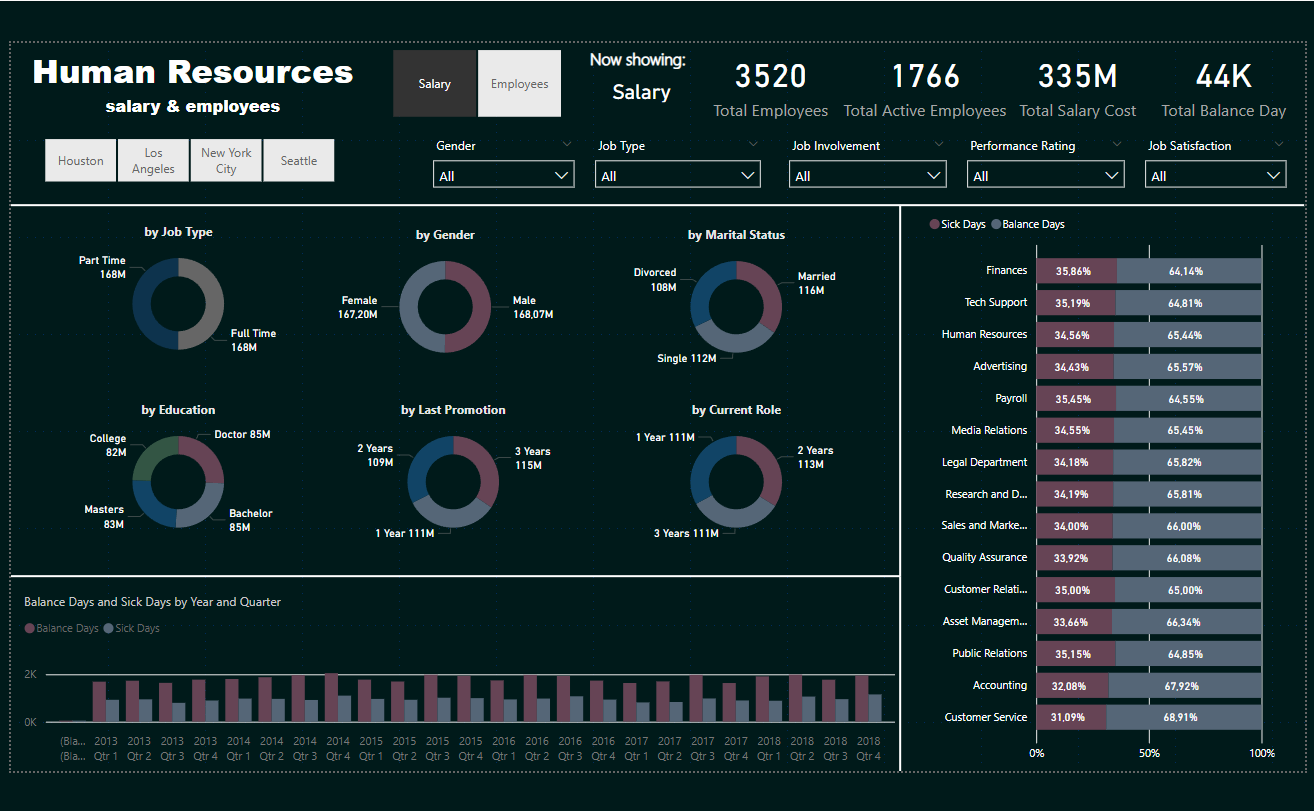

Layout of this report page (visuals, bound fields, positions):
{"tool":"powerbi","page":{"name":"Salary & Employees","canvas":[1280,720],"ordinal":0},"visuals":[{"type":"textbox","box":[8,0,344,80],"z":0},{"type":"card","fields":{"Values":["AllMeasures.Total Active Employees"]},"box":[816,0,176,80],"z":1000},{"type":"card","fields":{"Values":["AllMeasures.Total Employees"]},"box":[688,0,128,80],"z":2000},{"type":"card","fields":{"Values":["AllMeasures.Total Salary Cost"]},"box":[992,0,128,80],"z":3000},{"type":"card","fields":{"Values":["AllMeasures.Total Balance Day"]},"box":[1128,0,144,80],"z":4000},{"type":"slicer","fields":{"Values":["Metrics.Measure"]},"box":[352,0,216,80],"z":5000},{"type":"textbox","box":[568,0,120,32],"z":6000},{"type":"card","fields":{"Values":["AllMeasures.Measure Selected"]},"box":[568,32,112,32],"z":7000},{"type":"donutChart","title":"by Gender","fields":{"Y":["AllMeasures.Measure Logic"],"Category":["Human Resources.Gender"]},"box":[309.5,181.1,240,144],"z":8000},{"type":"donutChart","title":"by Marital Status","fields":{"Y":["AllMeasures.Measure Logic"],"Category":["Human Resources.Marital Status"]},"box":[597.5,181.1,240,144],"z":9000},{"type":"donutChart","title":" by Education","fields":{"Category":["Human Resources.Education"],"Y":["AllMeasures.Measure Logic"]},"box":[45.5,354.1,240,144],"z":10000},{"type":"donutChart","title":" by Last Promotion","fields":{"Y":["AllMeasures.Measure Logic"],"Category":["Human Resources.Years since last promition"]},"box":[317.5,354.1,240,144],"z":11000},{"type":"donutChart","title":"by Current Role","fields":{"Category":["Human Resources.Years in current role"],"Y":["AllMeasures.Measure Logic"]},"box":[597.5,354.1,240,144],"z":12000},{"type":"donutChart","title":"by Job Type","fields":{"Y":["AllMeasures.Measure Logic"],"Category":["Human Resources.Job Type"]},"box":[45.5,178.1,240,144],"z":13000},{"type":"shape","box":[864,160,32,368],"z":14000},{"type":"shape","box":[0,144,880,32],"z":15000},{"type":"shape","box":[0,512,880,32],"z":16000},{"type":"hundredPercentStackedBarChart","fields":{"Category":["Human Resources.Departmets"],"Y":["Sum(Human Resources.Sick Days)","Sum(Human Resources.Balance Days)"]},"box":[904,160,352,560],"z":17000},{"type":"clusteredColumnChart","fields":{"Y":["Sum(Human Resources.Balance Days)","Sum(Human Resources.Sick Days)"],"Category":["DateFunction.Date.Variation.Date Hierarchy.Year","DateFunction.Date.Variation.Date Hierarchy.Quarter"]},"box":[8,544,872,176],"z":18000},{"type":"shape","box":[880,144,400,32],"z":19000},{"type":"shape","box":[864,528,32,192],"z":20000},{"type":"slicer","fields":{"Values":["Human Resources.Business Unit"]},"box":[8,88,336,56],"z":21000},{"type":"slicer","fields":{"Values":["Human Resources.Gender"]},"box":[408,88,160,56],"z":22000},{"type":"slicer","fields":{"Values":["Human Resources.Job Type"]},"box":[568,88,184,56],"z":23000},{"type":"slicer","fields":{"Values":["Human Resources.Job Involvement"]},"box":[760,88,176,56],"z":24000},{"type":"slicer","fields":{"Values":["Human Resources.Performance Rating"]},"box":[936,88,176,56],"z":25000},{"type":"slicer","fields":{"Values":["Human Resources.Job Satisfaction"]},"box":[1112,88,160,56],"z":26000}]}

Visuals, with their boxes on the page's 1280x720 design canvas (x1, y1, x2, y2). These are canvas units, not pixel positions in the 1314x811 screenshot, which may show the page scaled, cropped or inside an application window:
textbox: 8,0,352,80
card - AllMeasures.Total Active Employees: 816,0,992,80
card - AllMeasures.Total Employees: 688,0,816,80
card - AllMeasures.Total Salary Cost: 992,0,1120,80
card - AllMeasures.Total Balance Day: 1128,0,1272,80
slicer - Metrics.Measure: 352,0,568,80
textbox: 568,0,688,32
card - AllMeasures.Measure Selected: 568,32,680,64
"by Gender" donutChart: 310,181,550,325
"by Marital Status" donutChart: 598,181,838,325
" by Education" donutChart: 46,354,286,498
" by Last Promotion" donutChart: 318,354,558,498
"by Current Role" donutChart: 598,354,838,498
"by Job Type" donutChart: 46,178,286,322
shape: 864,160,896,528
shape: 0,144,880,176
shape: 0,512,880,544
hundredPercentStackedBarChart - Human Resources.Departmets x Sum(Human Resources.Sick Days): 904,160,1256,720
clusteredColumnChart - Sum(Human Resources.Balance Days) x Sum(Human Resources.Sick Days): 8,544,880,720
shape: 880,144,1280,176
shape: 864,528,896,720
slicer - Human Resources.Business Unit: 8,88,344,144
slicer - Human Resources.Gender: 408,88,568,144
slicer - Human Resources.Job Type: 568,88,752,144
slicer - Human Resources.Job Involvement: 760,88,936,144
slicer - Human Resources.Performance Rating: 936,88,1112,144
slicer - Human Resources.Job Satisfaction: 1112,88,1272,144
